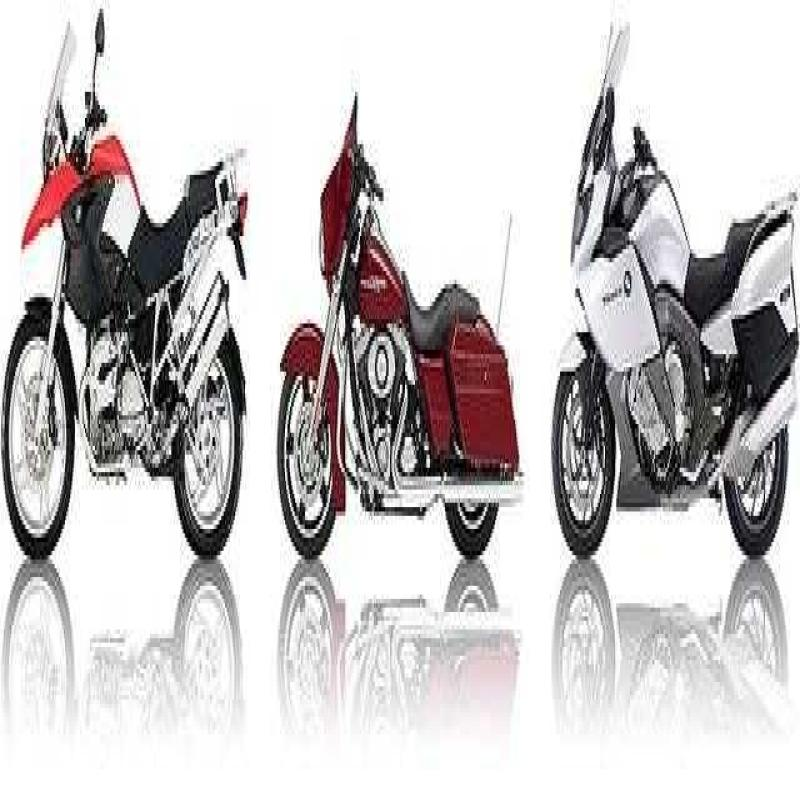bike: (283, 31, 523, 657), (6, 12, 256, 594), (557, 31, 800, 629)
